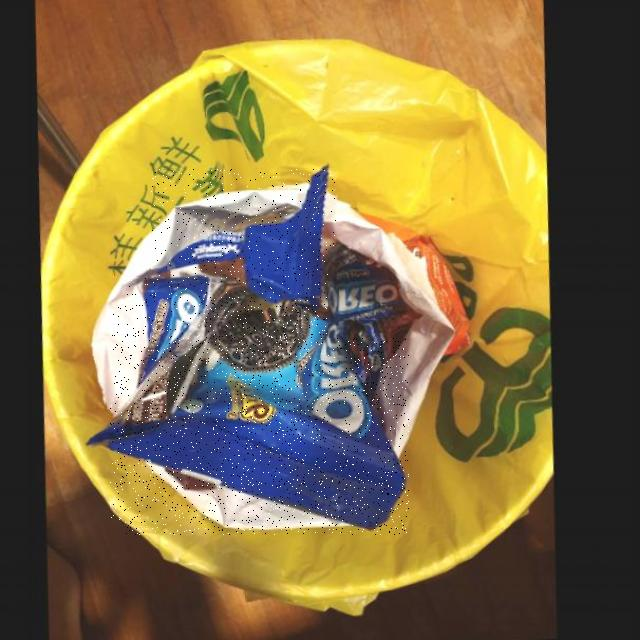wrapper: (111, 304, 409, 534), (152, 169, 336, 311), (123, 277, 258, 428), (329, 247, 418, 337)
